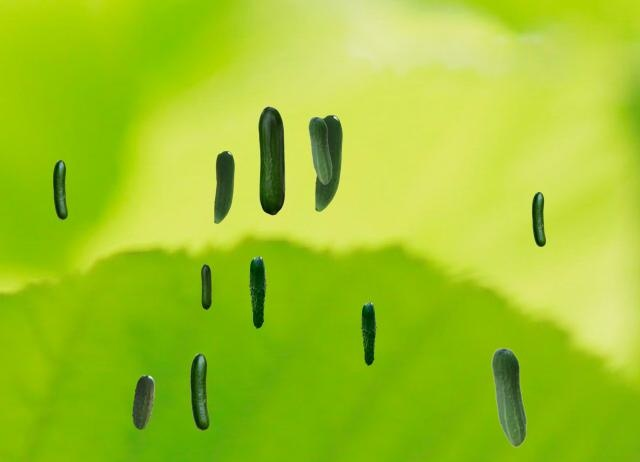cucumber: (491, 347, 526, 446), (258, 106, 284, 214), (315, 115, 341, 210), (308, 116, 331, 183), (190, 353, 208, 429), (214, 151, 233, 222), (249, 256, 265, 327), (132, 375, 153, 428), (361, 302, 375, 364), (53, 160, 66, 218), (532, 192, 544, 245), (201, 264, 210, 308)
